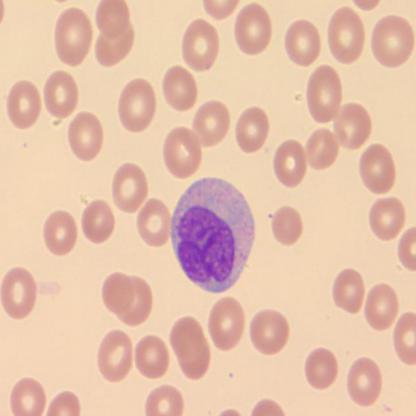Promyelocyte: (170, 176, 255, 292)
